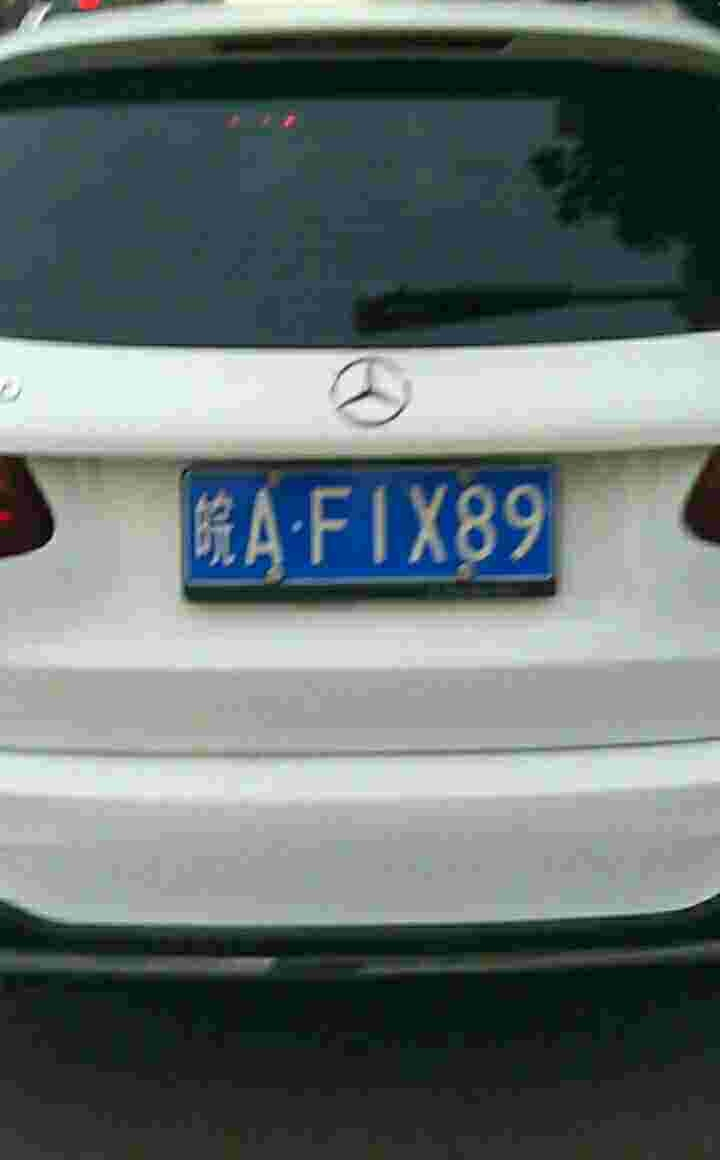license_plate: (170, 459, 567, 587)
